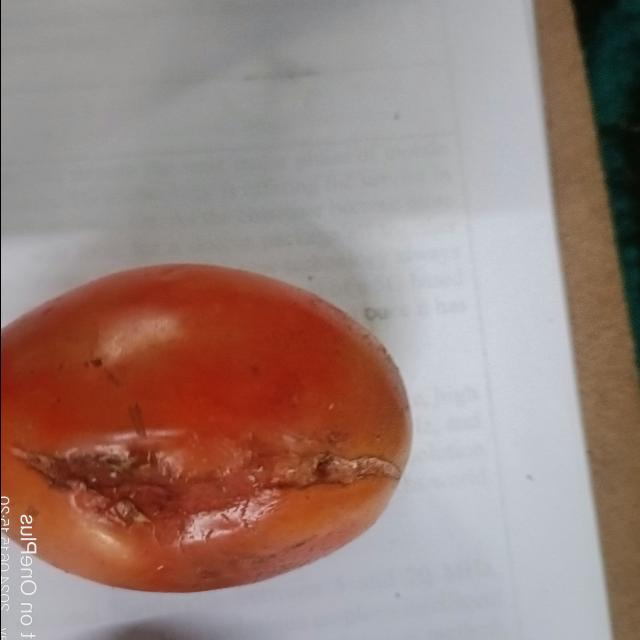tomato_cracking: (20, 426, 393, 543)
